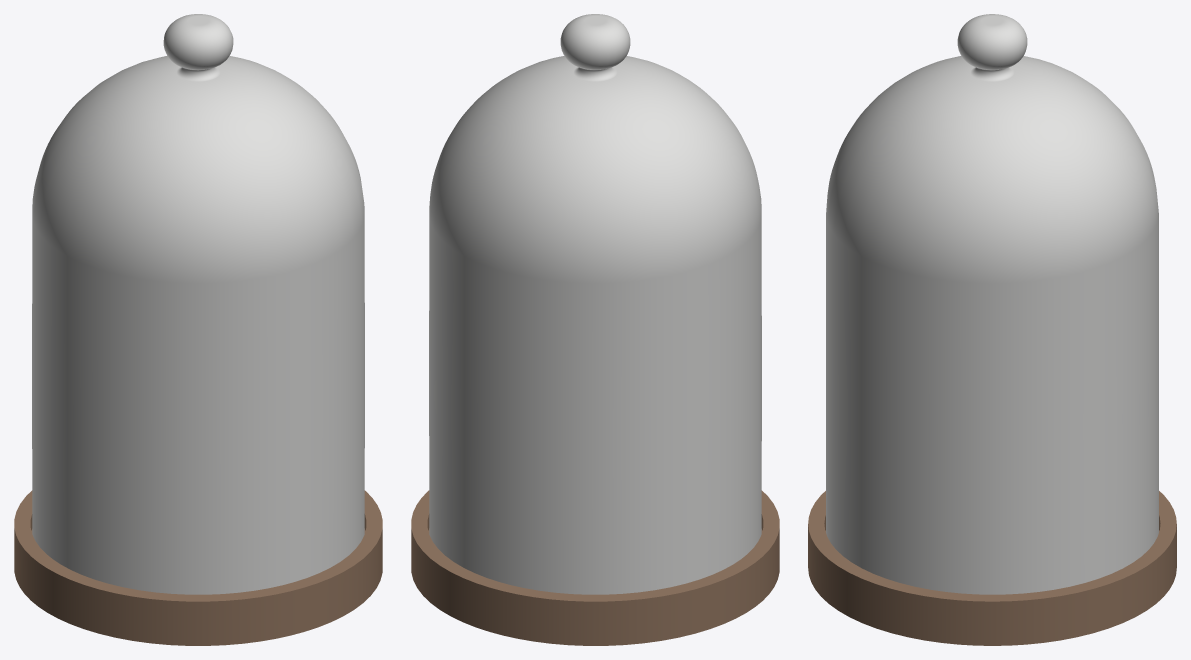
Rendered from 601_ガラスドーム.glb.
3 views of the same model, side by side, from view 1: azimuth 30°, elevation 25°; view 2: azimuth 150°, elevation 25°; view 3: azimuth 270°, elevation 25° (orthographic).
Visible parts, largest first — view 1: huta, base; view 2: huta, base; view 3: huta, base.
Boxes of the visible parts, bbox=[...] form: huta: bbox=[32, 14, 364, 594]; base: bbox=[14, 490, 382, 645]; huta: bbox=[429, 14, 761, 594]; base: bbox=[411, 490, 779, 645]; huta: bbox=[826, 14, 1158, 594]; base: bbox=[808, 491, 1176, 645].
Bounding box in the file's own units: 0.113 × 0.185 × 0.113.
